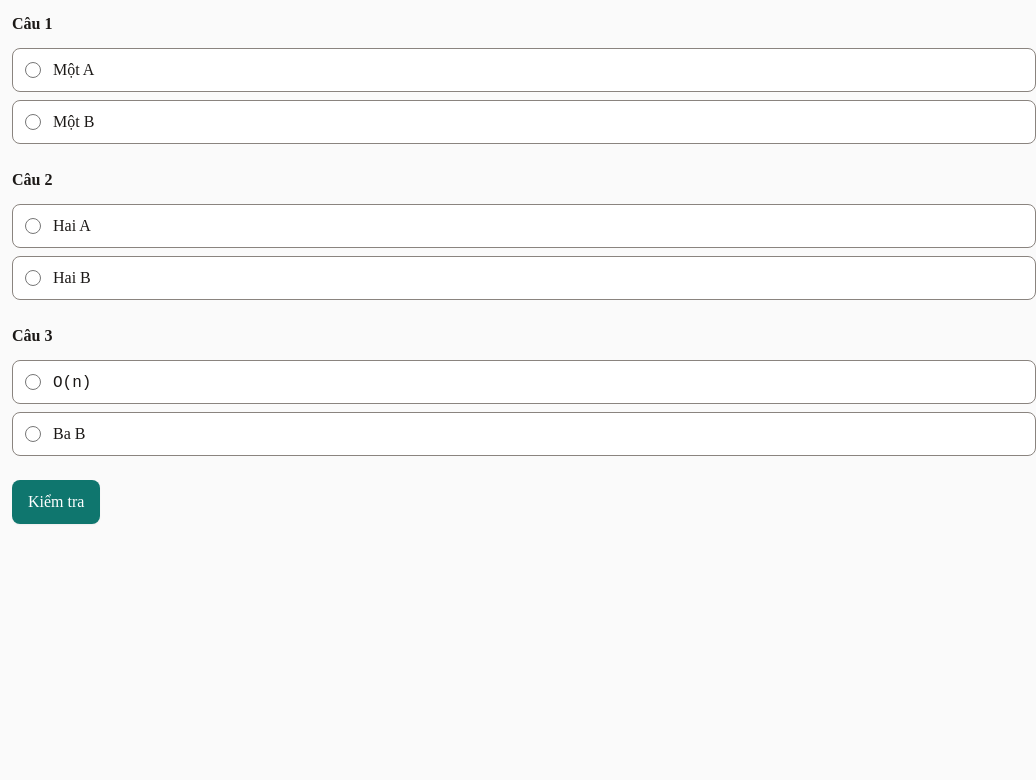
Test: Quiz › shows an icon and a verdict under each question, with the right answer when wrong
The image size is (1036, 780).
Click the radio button labelled "Một A" at (33, 70), box [25, 62, 41, 78]
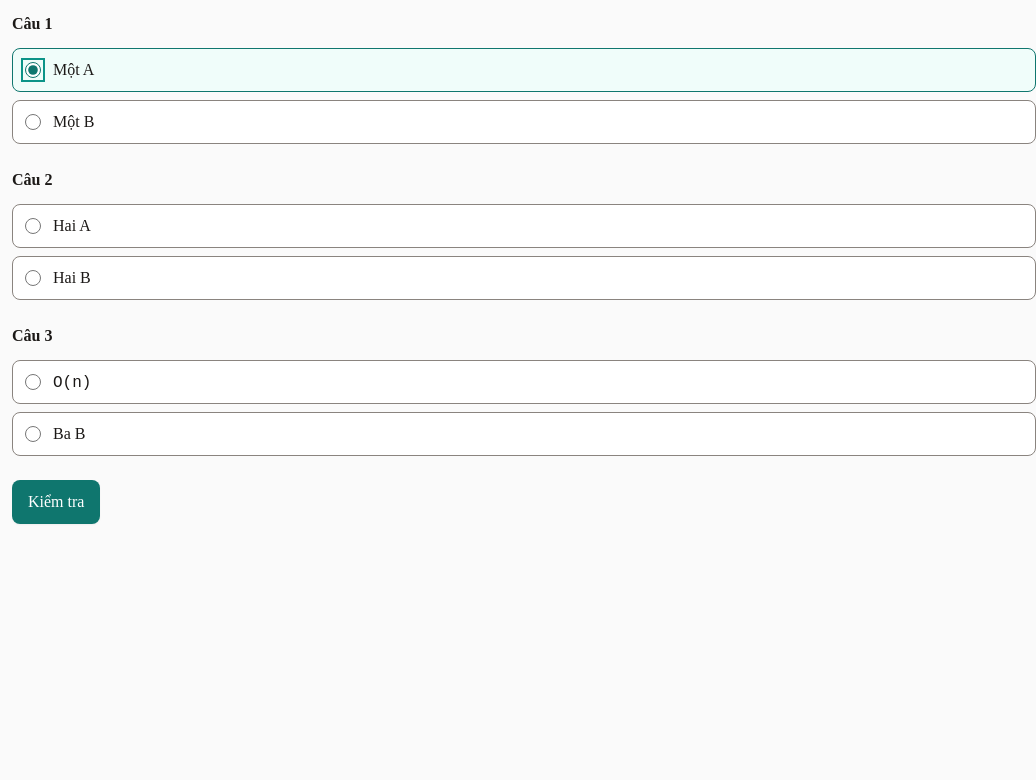
Click the radio button labelled "Ba B" at (33, 434), box [25, 426, 41, 442]
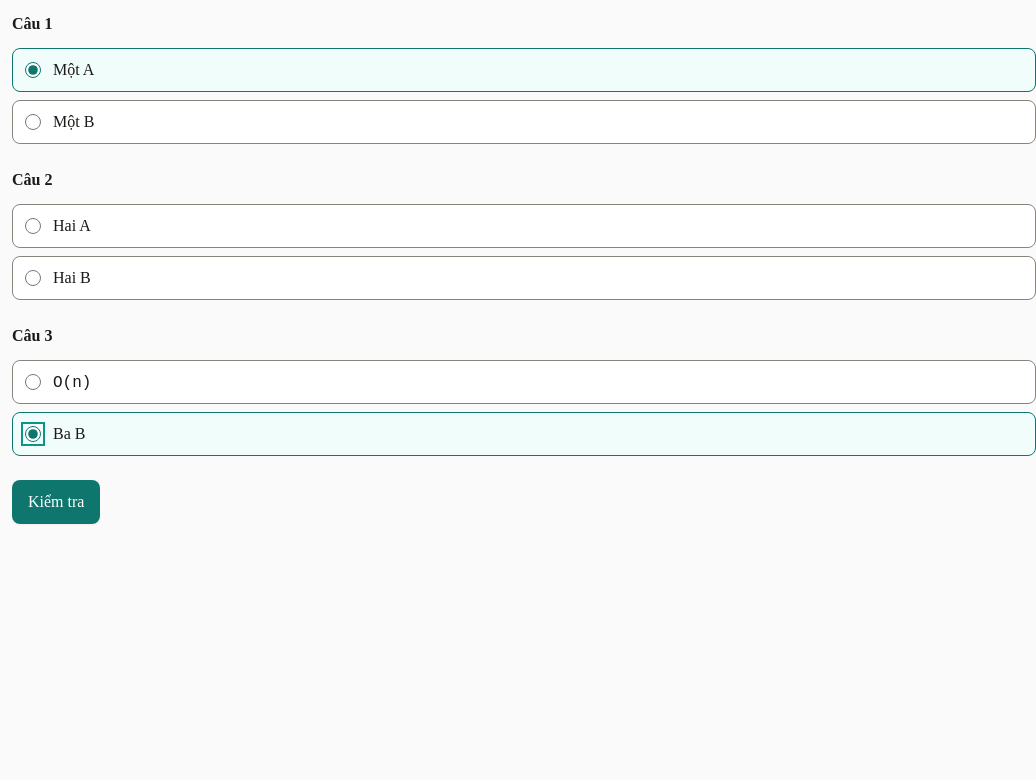
Click the button "Kiểm tra" at (56, 502), box [12, 480, 100, 524]
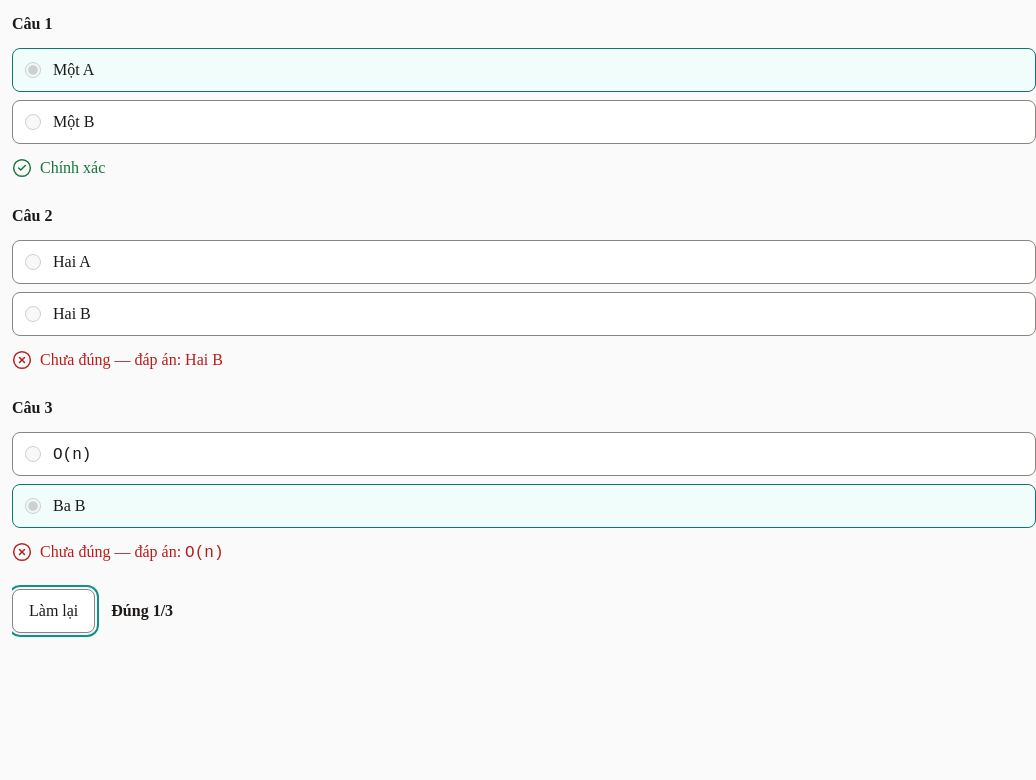
Expected: the element showing "Chưa đúng — đáp án: O(n)" is shown, [12, 542, 224, 562]
